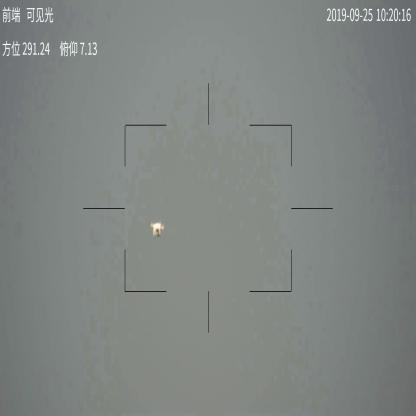uav: (150, 218, 164, 236)
